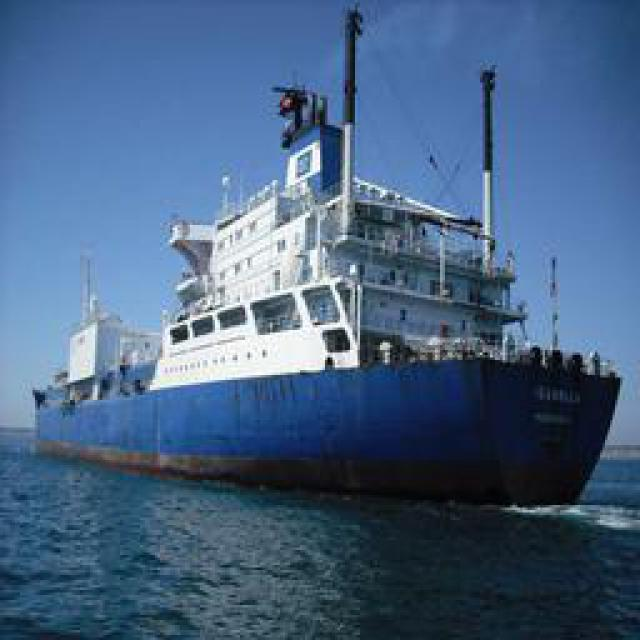Ship: (34, 7, 629, 495)
